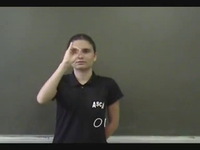oi: (56, 40, 84, 65)
